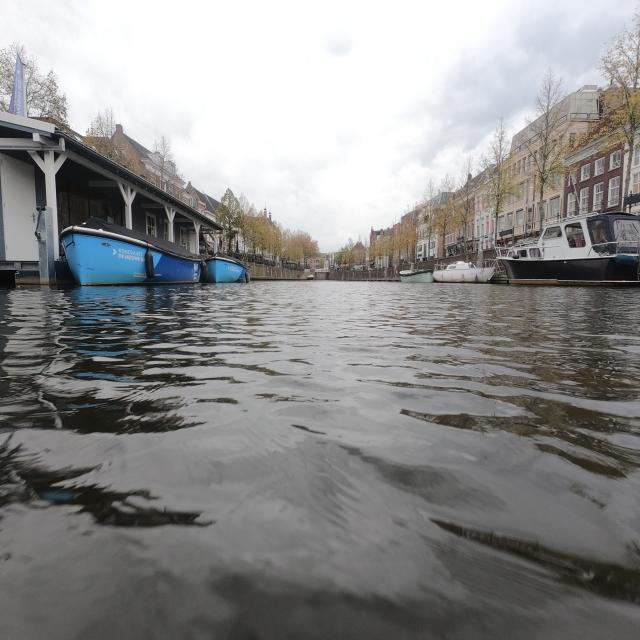boat: (499, 211, 640, 286), (61, 218, 201, 285), (433, 261, 495, 283), (208, 254, 250, 282), (400, 269, 434, 283)
sky: (0, 8, 638, 248)
water: (0, 278, 640, 640)
